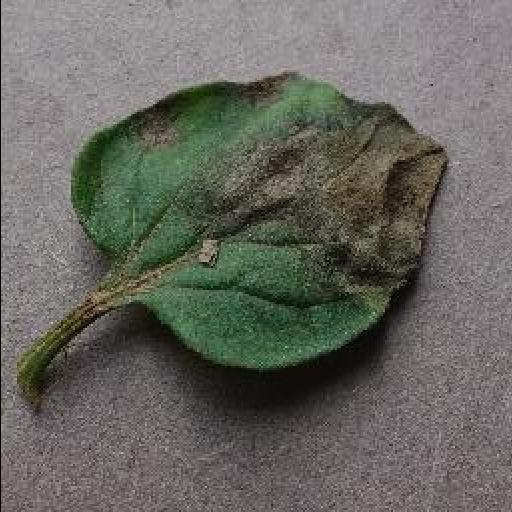disease_tomato: (71, 74, 449, 372)
